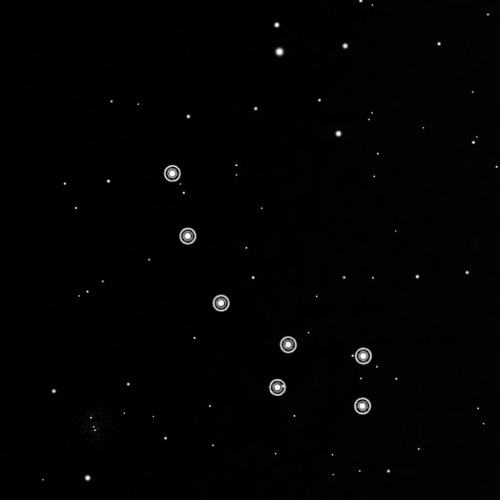ursa_minor: (158, 158, 380, 419)
